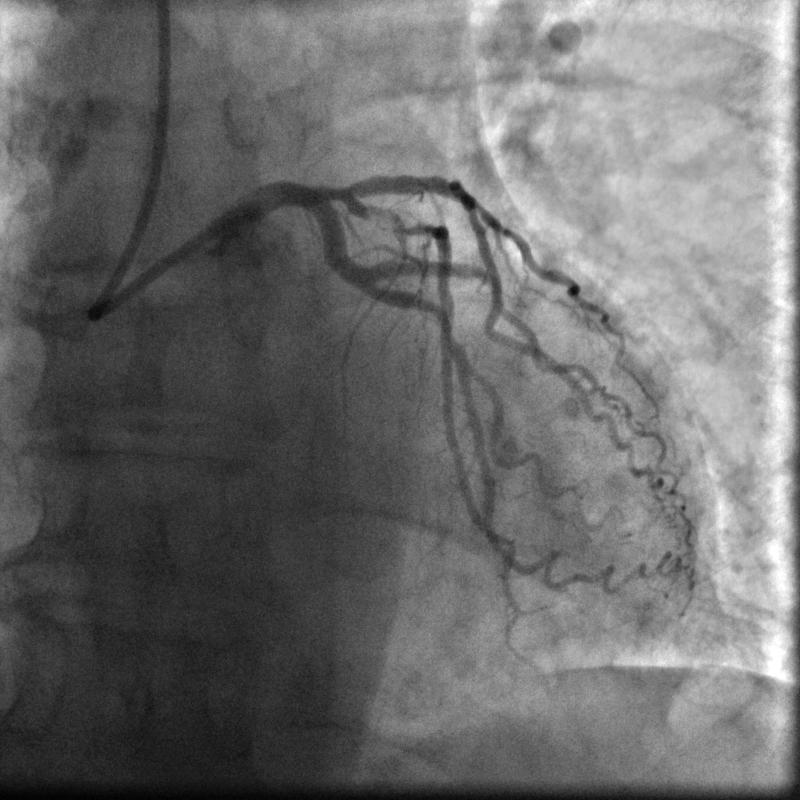Stenosis: (356, 196, 426, 238)
